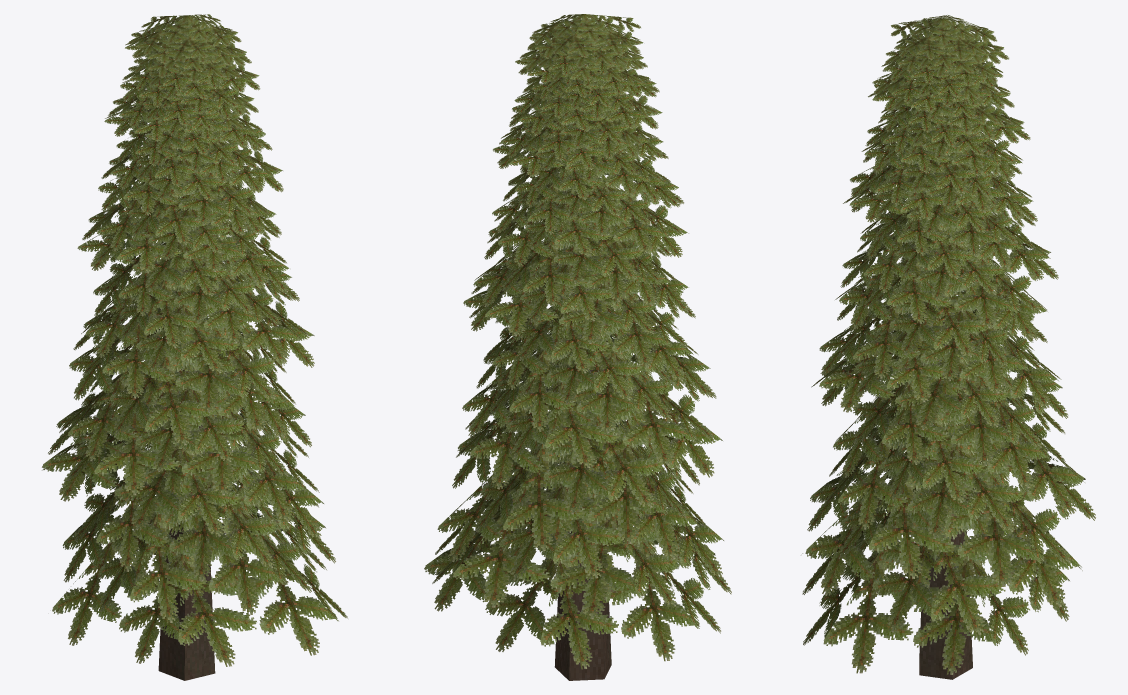
File: Spruce.glb
3 views of the same model, side by side, from view 1: azimuth 30°, elevation 25°; view 2: azimuth 150°, elevation 25°; view 3: azimuth 270°, elevation 25° (orthographic).
Visible parts, largest first — view 1: Tree; view 2: Tree; view 3: Tree.
Part boxes in pixels (left/top/right/bottom): Tree: left=42, top=14, right=347, bottom=680; Tree: left=424, top=14, right=731, bottom=680; Tree: left=802, top=15, right=1095, bottom=679.
Bounding box in the file's own units: 5.91 × 12.02 × 5.62.
2 materials, 2 textured.
